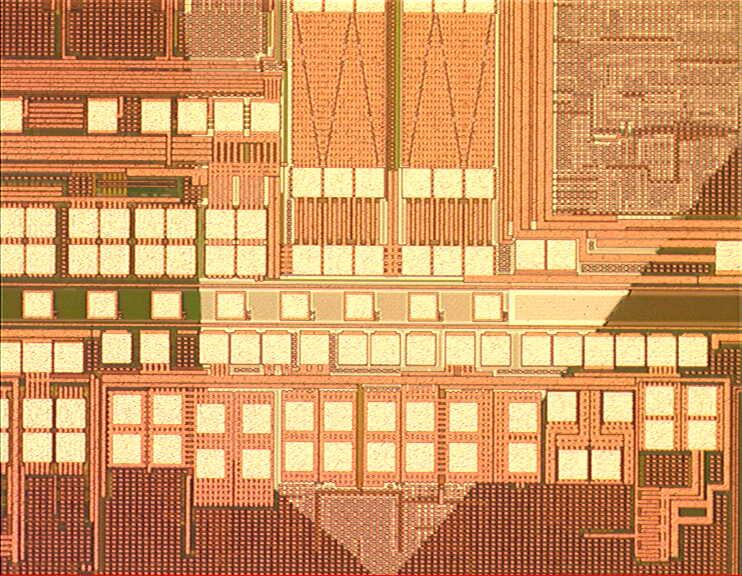COATING BAD: (176, 1, 742, 576)
